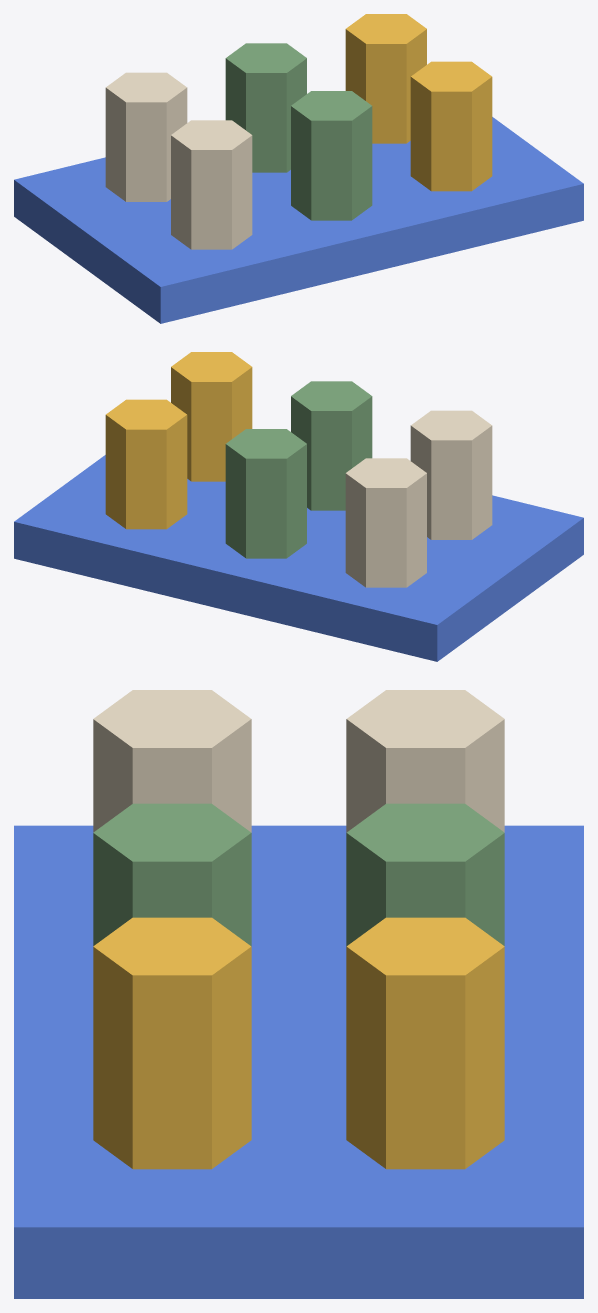
3 views of the same model, one above another, from view 1: azimuth 30°, elevation 25°; view 2: azimuth 150°, elevation 25°; view 3: azimuth 270°, elevation 25° (orthographic). The views are drawn at different scales.
Parts seen in each view (by area): view 1: Organizer tray, food item.002, food item, food item.001, food item.003, food item.004, food item.005; view 2: Organizer tray, food item.005, food item.003, food item.004, food item, food item.001, food item.002; view 3: Organizer tray, food item.002, food item.005, food item.001, food item.004, food item, food item.003.
Boxes of the visible parts, x1=… form: Organizer tray: x1=14, y1=117, x2=583, y2=323; food item.002: x1=410, y1=61, x2=492, y2=191; food item: x1=171, y1=120, x2=252, y2=249; food item.001: x1=291, y1=91, x2=372, y2=220; food item.003: x1=105, y1=72, x2=187, y2=201; food item.004: x1=225, y1=43, x2=306, y2=172; food item.005: x1=345, y1=14, x2=426, y2=143; Organizer tray: x1=14, y1=455, x2=583, y2=661; food item.005: x1=105, y1=399, x2=187, y2=529; food item.003: x1=345, y1=458, x2=426, y2=587; food item.004: x1=225, y1=429, x2=306, y2=558; food item: x1=410, y1=410, x2=492, y2=539; food item.001: x1=291, y1=381, x2=372, y2=510; food item.002: x1=171, y1=352, x2=252, y2=481; Organizer tray: x1=14, y1=825, x2=583, y2=1298; food item.002: x1=93, y1=917, x2=251, y2=1169; food item.005: x1=346, y1=917, x2=504, y2=1169; food item.001: x1=93, y1=803, x2=251, y2=946; food item.004: x1=346, y1=803, x2=504, y2=946; food item: x1=93, y1=690, x2=251, y2=832; food item.003: x1=346, y1=690, x2=504, y2=832.
Size of the model in its own units: 0.6 by 0.185 by 0.36.
1 material, 1 textured.
